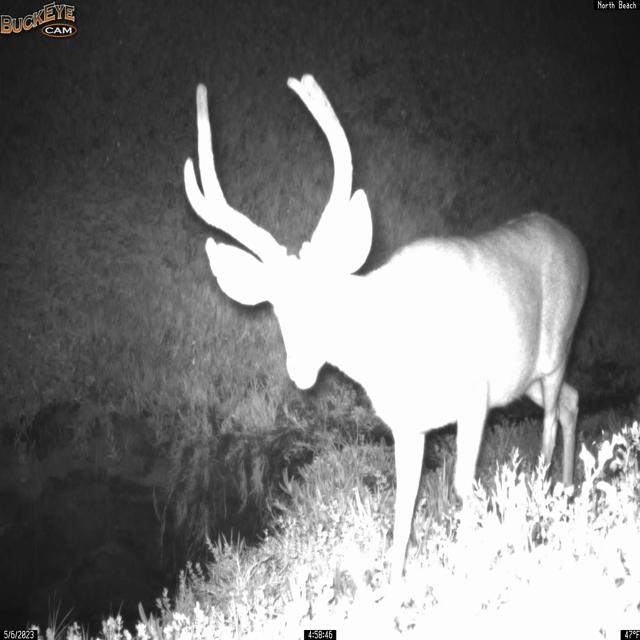deer: (182, 72, 590, 596)
